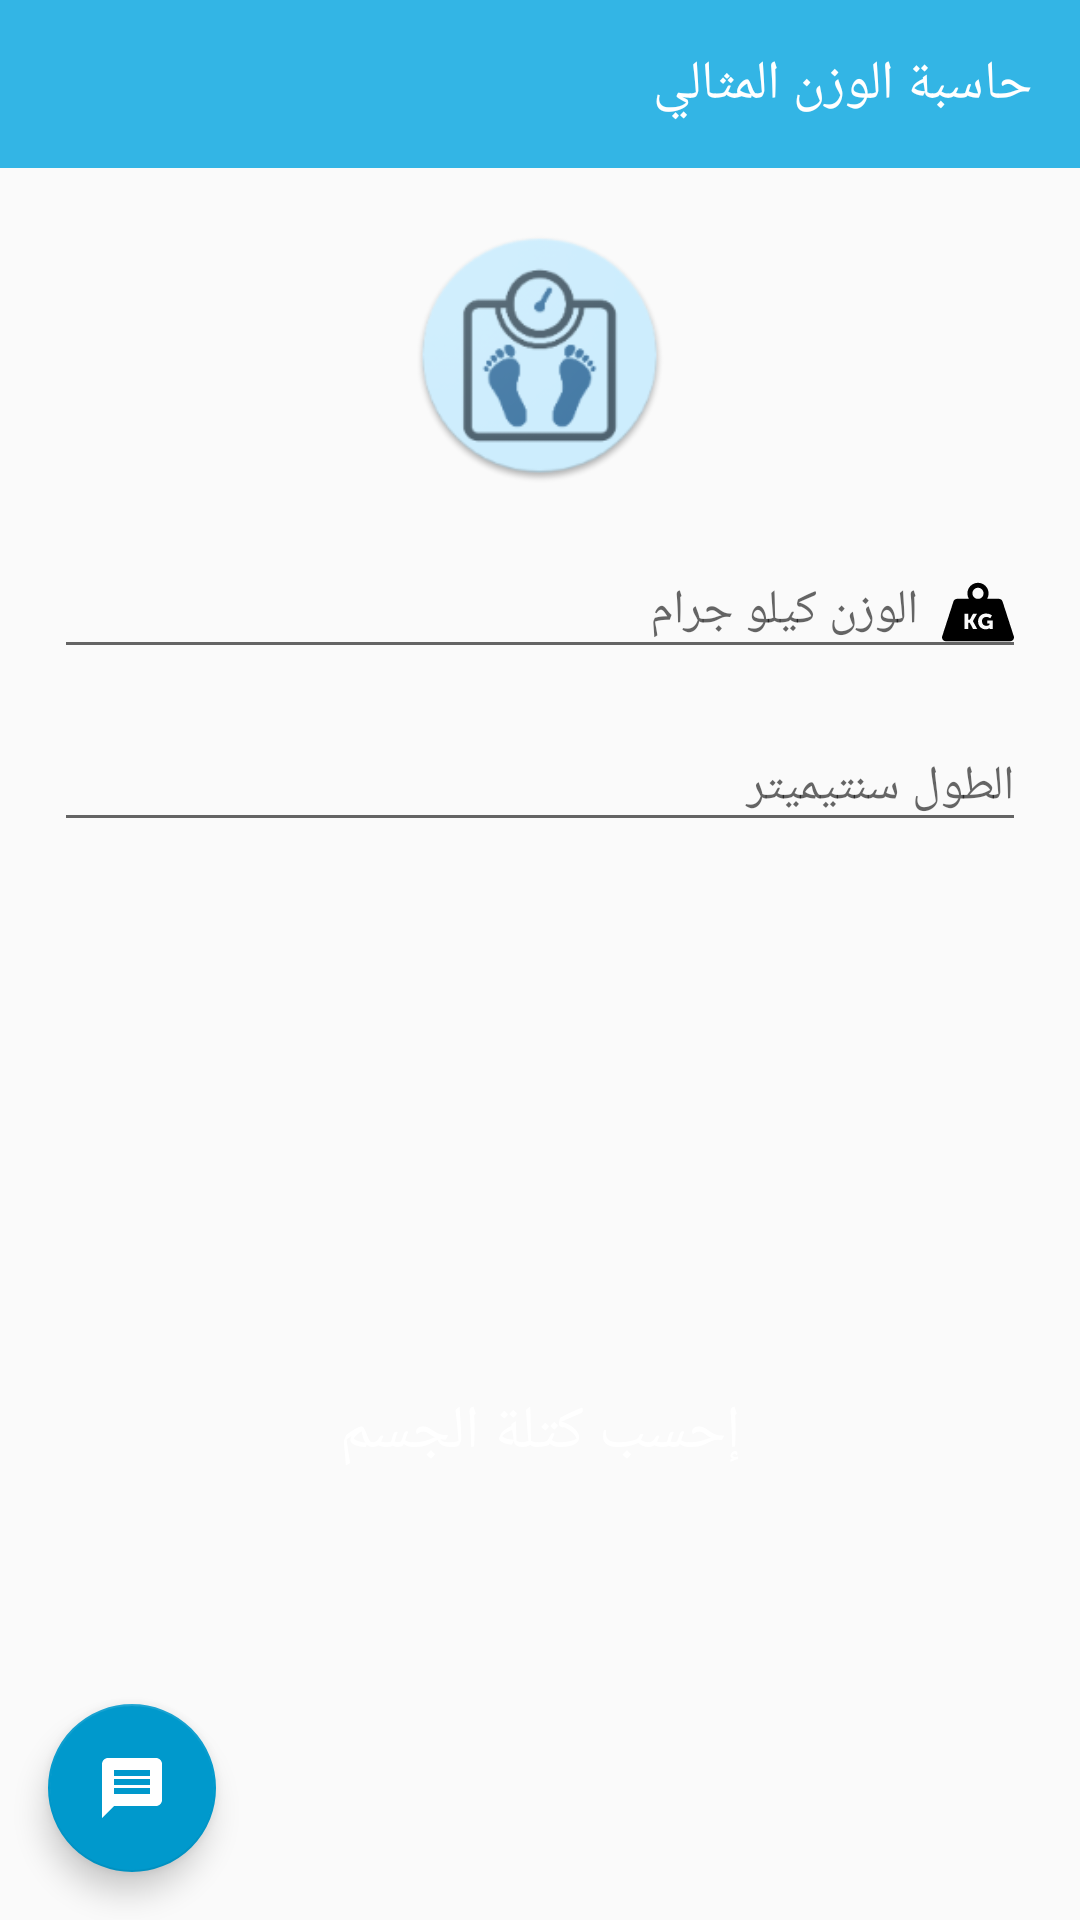

Icons on this 1080 x 1920 Android screen, each with the point to tap as (x,y):
message: (132,1788)
